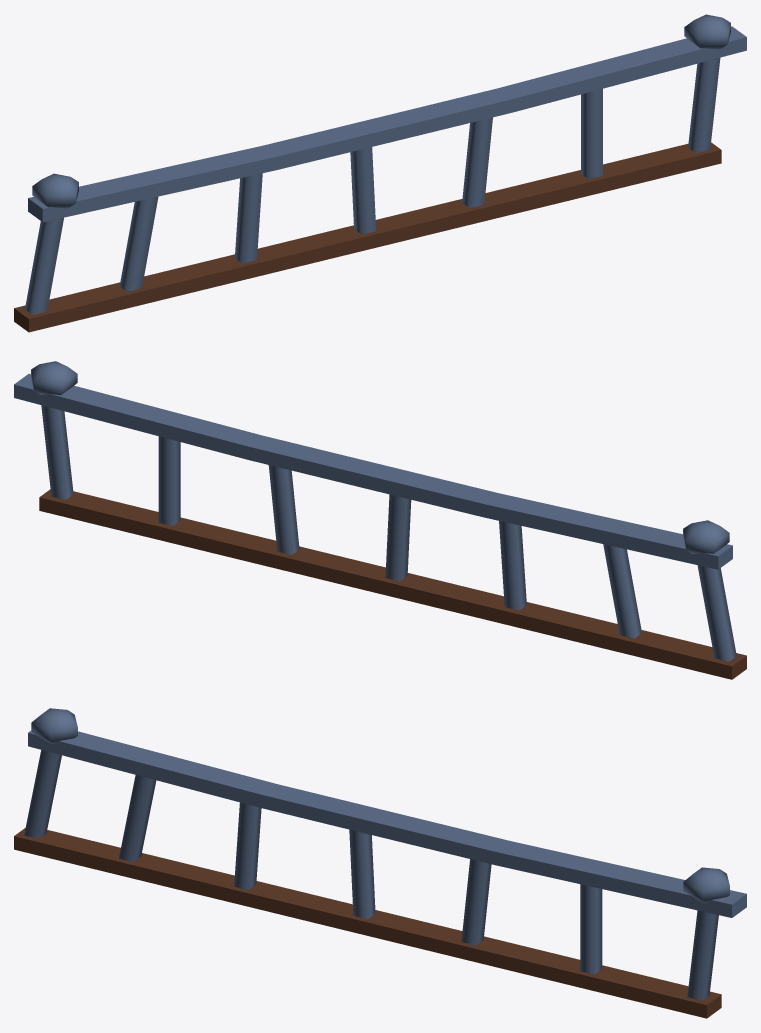
The model's file is Fence.fbx.
The picture shows the model from 3 angles, top to bottom: view 1: azimuth 30°, elevation 25°; view 2: azimuth 150°, elevation 25°; view 3: azimuth 330°, elevation 25°; orthographic projection.
Visible parts, largest first — view 1: pCube62; view 2: pCube62; view 3: pCube62.
Part boxes in pixels (box(x1,y1,x2,y2)): pCube62: box(14, 14, 746, 332); pCube62: box(14, 361, 746, 679); pCube62: box(14, 708, 746, 1018).
Bounding box in the file's own units: 14.93 × 2.81 × 0.8578.
